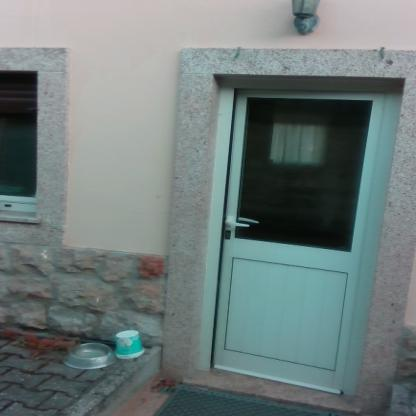door: (223, 92, 348, 392)
lever: (223, 218, 250, 232)
